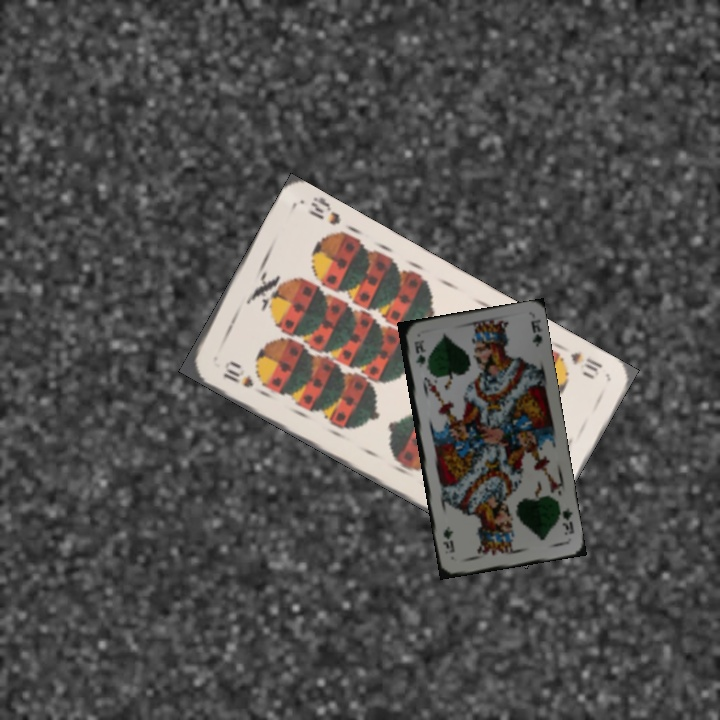GK: (558, 503, 577, 538), (410, 337, 427, 370)
S10: (566, 347, 605, 382), (219, 359, 256, 391)
